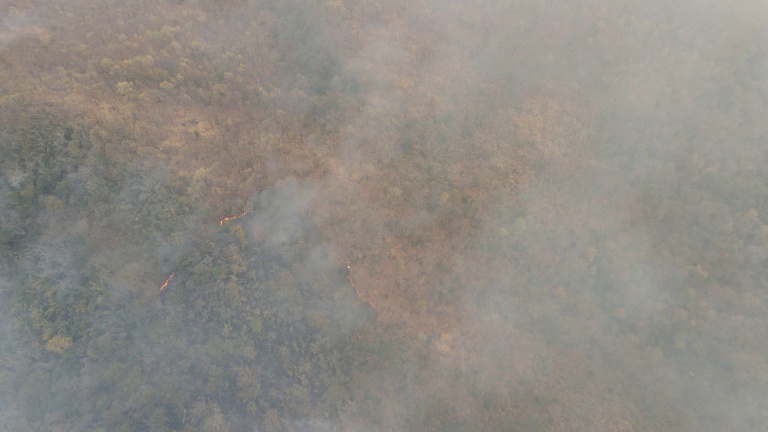fire: (335, 259, 378, 322), (212, 186, 266, 233), (156, 265, 182, 296)
smoke: (4, 225, 768, 428), (270, 1, 768, 227)
